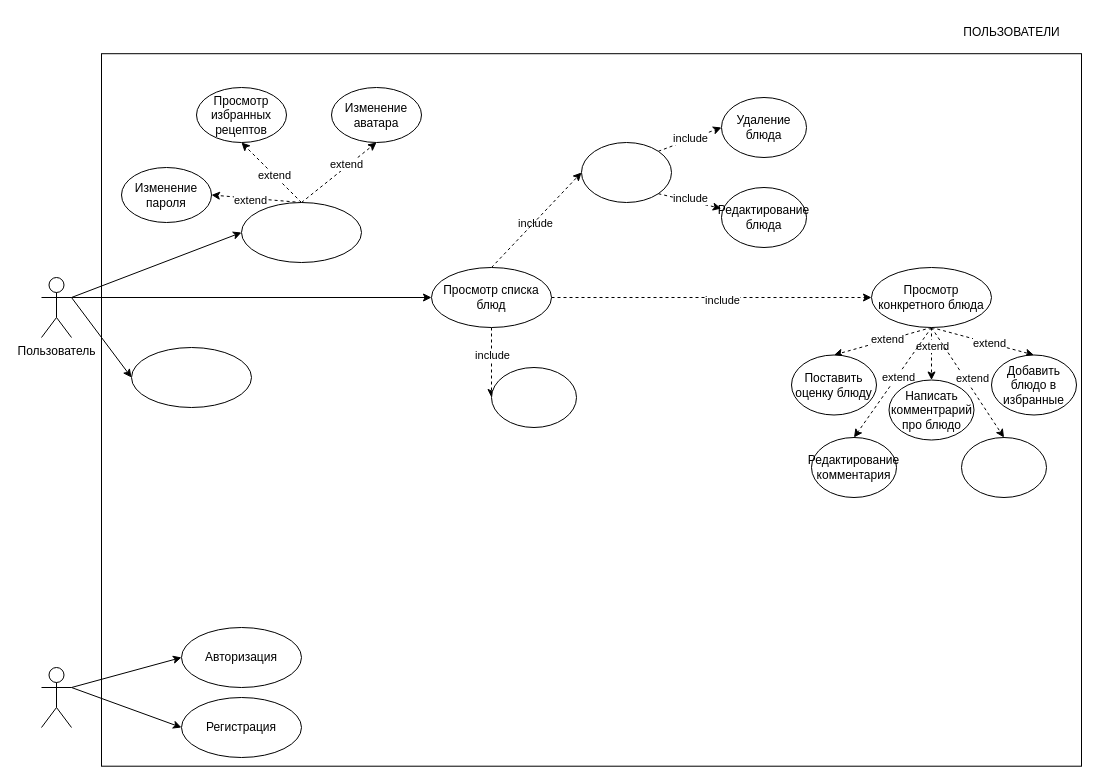
The diagram is 1099 pixels wide and 784 high, and some of its shapes have lost their labels. The centre of each missing label's shape, as x and y in pixels:
"Выход из системы" belongs at point 191,377.
"Гость" belongs at point 56,697.
"Добавление нового блюда" belongs at point 626,172.
"Просмотр личного кабинета" belongs at point 301,232.
"Сортировка блюд по категориям" belongs at point 533,397.
"Удалить комментария" belongs at point 1003,467.
